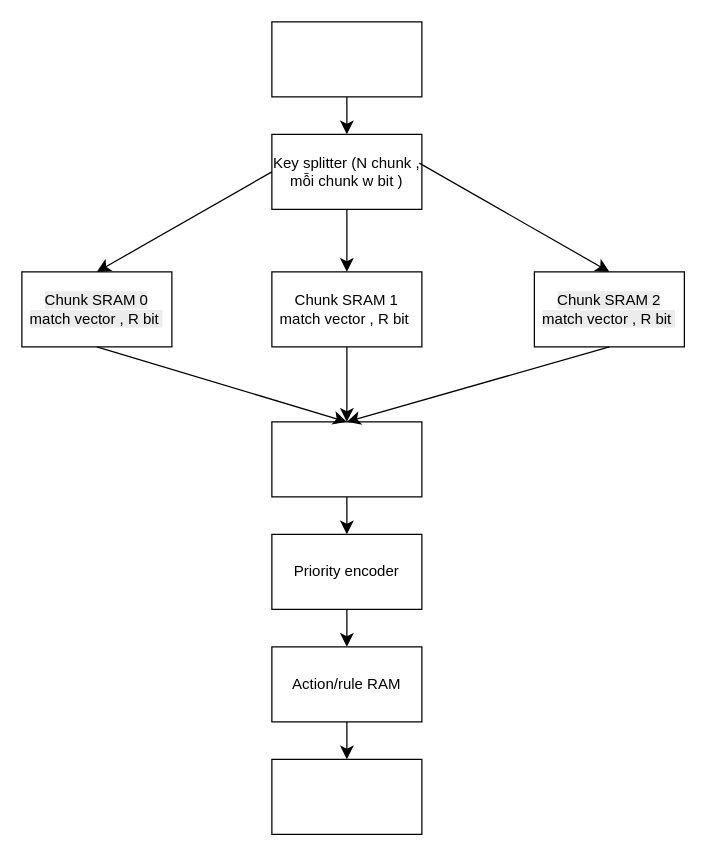
This 706x856 diagram has some shape labels left out. Here are the shapes that lost their labels. From the top down, the box of each, then its label:
(271, 21, 422, 97): Packet header key
(271, 421, 422, 497): AND_reduction tree gộp N match vector
(271, 758, 422, 834): Match result rule ID + action
